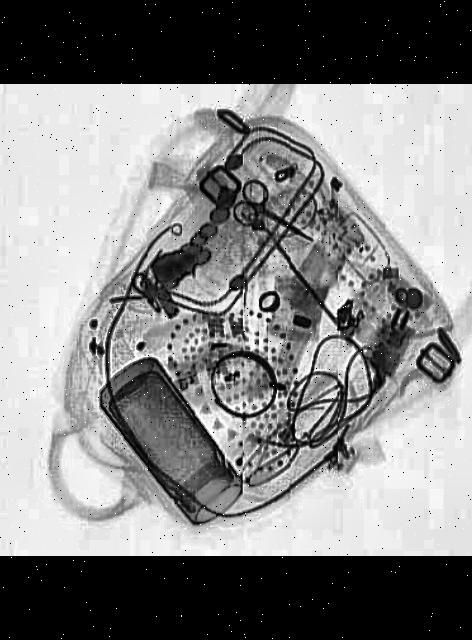Scissors: (217, 174, 327, 256)
